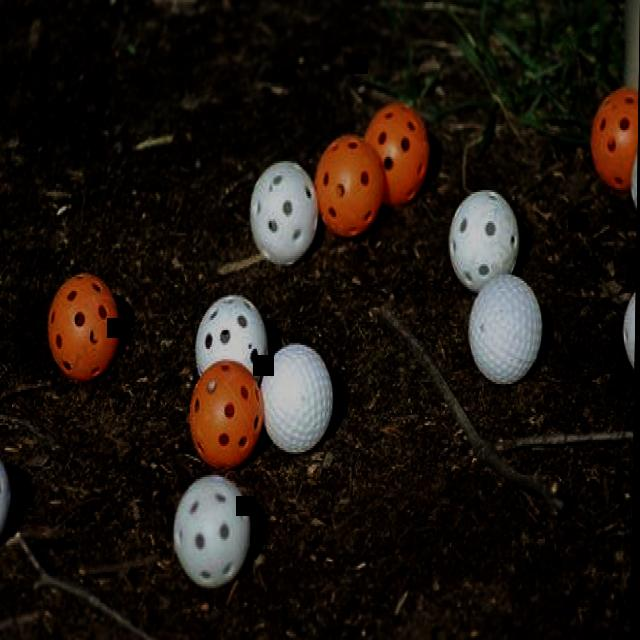golf ball: (259, 340, 338, 460), (466, 272, 547, 388)
